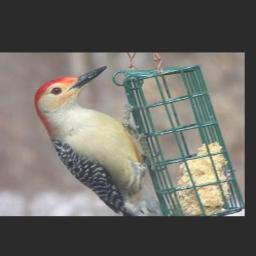Woodpecker: (35, 65, 161, 215)
